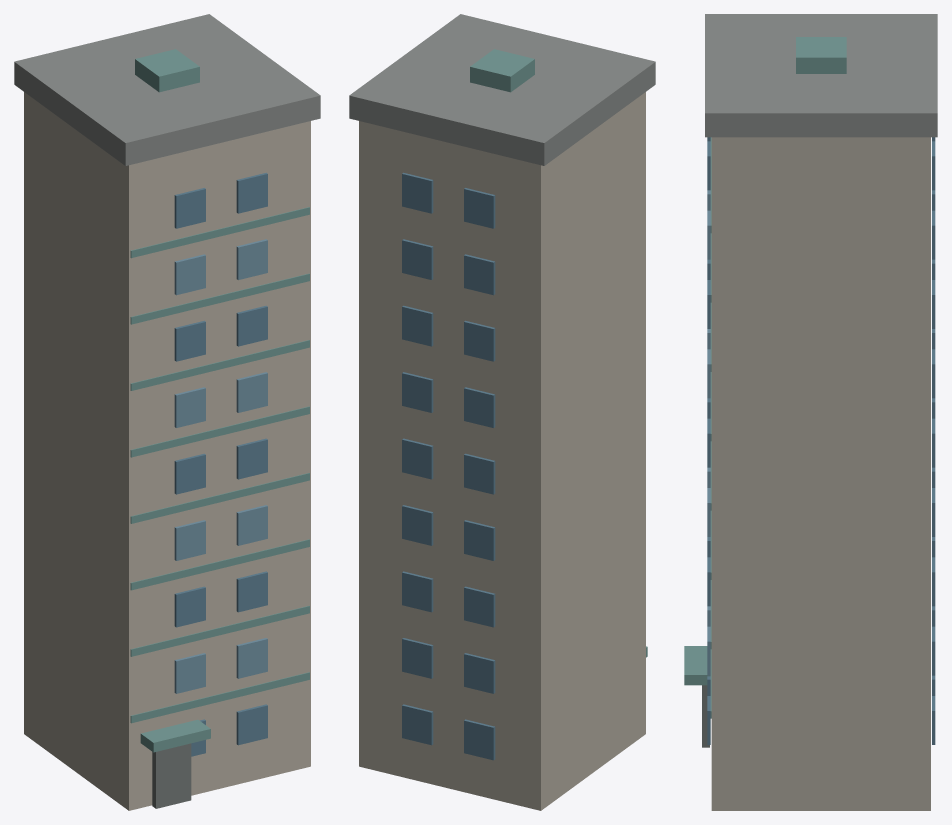
File: house_panel_1x1.glb
The picture shows the model from 3 angles, left to right: view 1: azimuth 30°, elevation 25°; view 2: azimuth 150°, elevation 25°; view 3: azimuth 270°, elevation 25°; orthographic projection. The views are drawn at different scales.
Parts seen in each view (by area): view 1: house_panel_1x1; view 2: house_panel_1x1; view 3: house_panel_1x1.
Part boxes in pixels (x1,y1,x2,y2): house_panel_1x1: (14,14,320,810); house_panel_1x1: (349,14,655,810); house_panel_1x1: (684,14,937,810).
Size of the model in its own units: 1.69 by 5.69 by 1.82.
